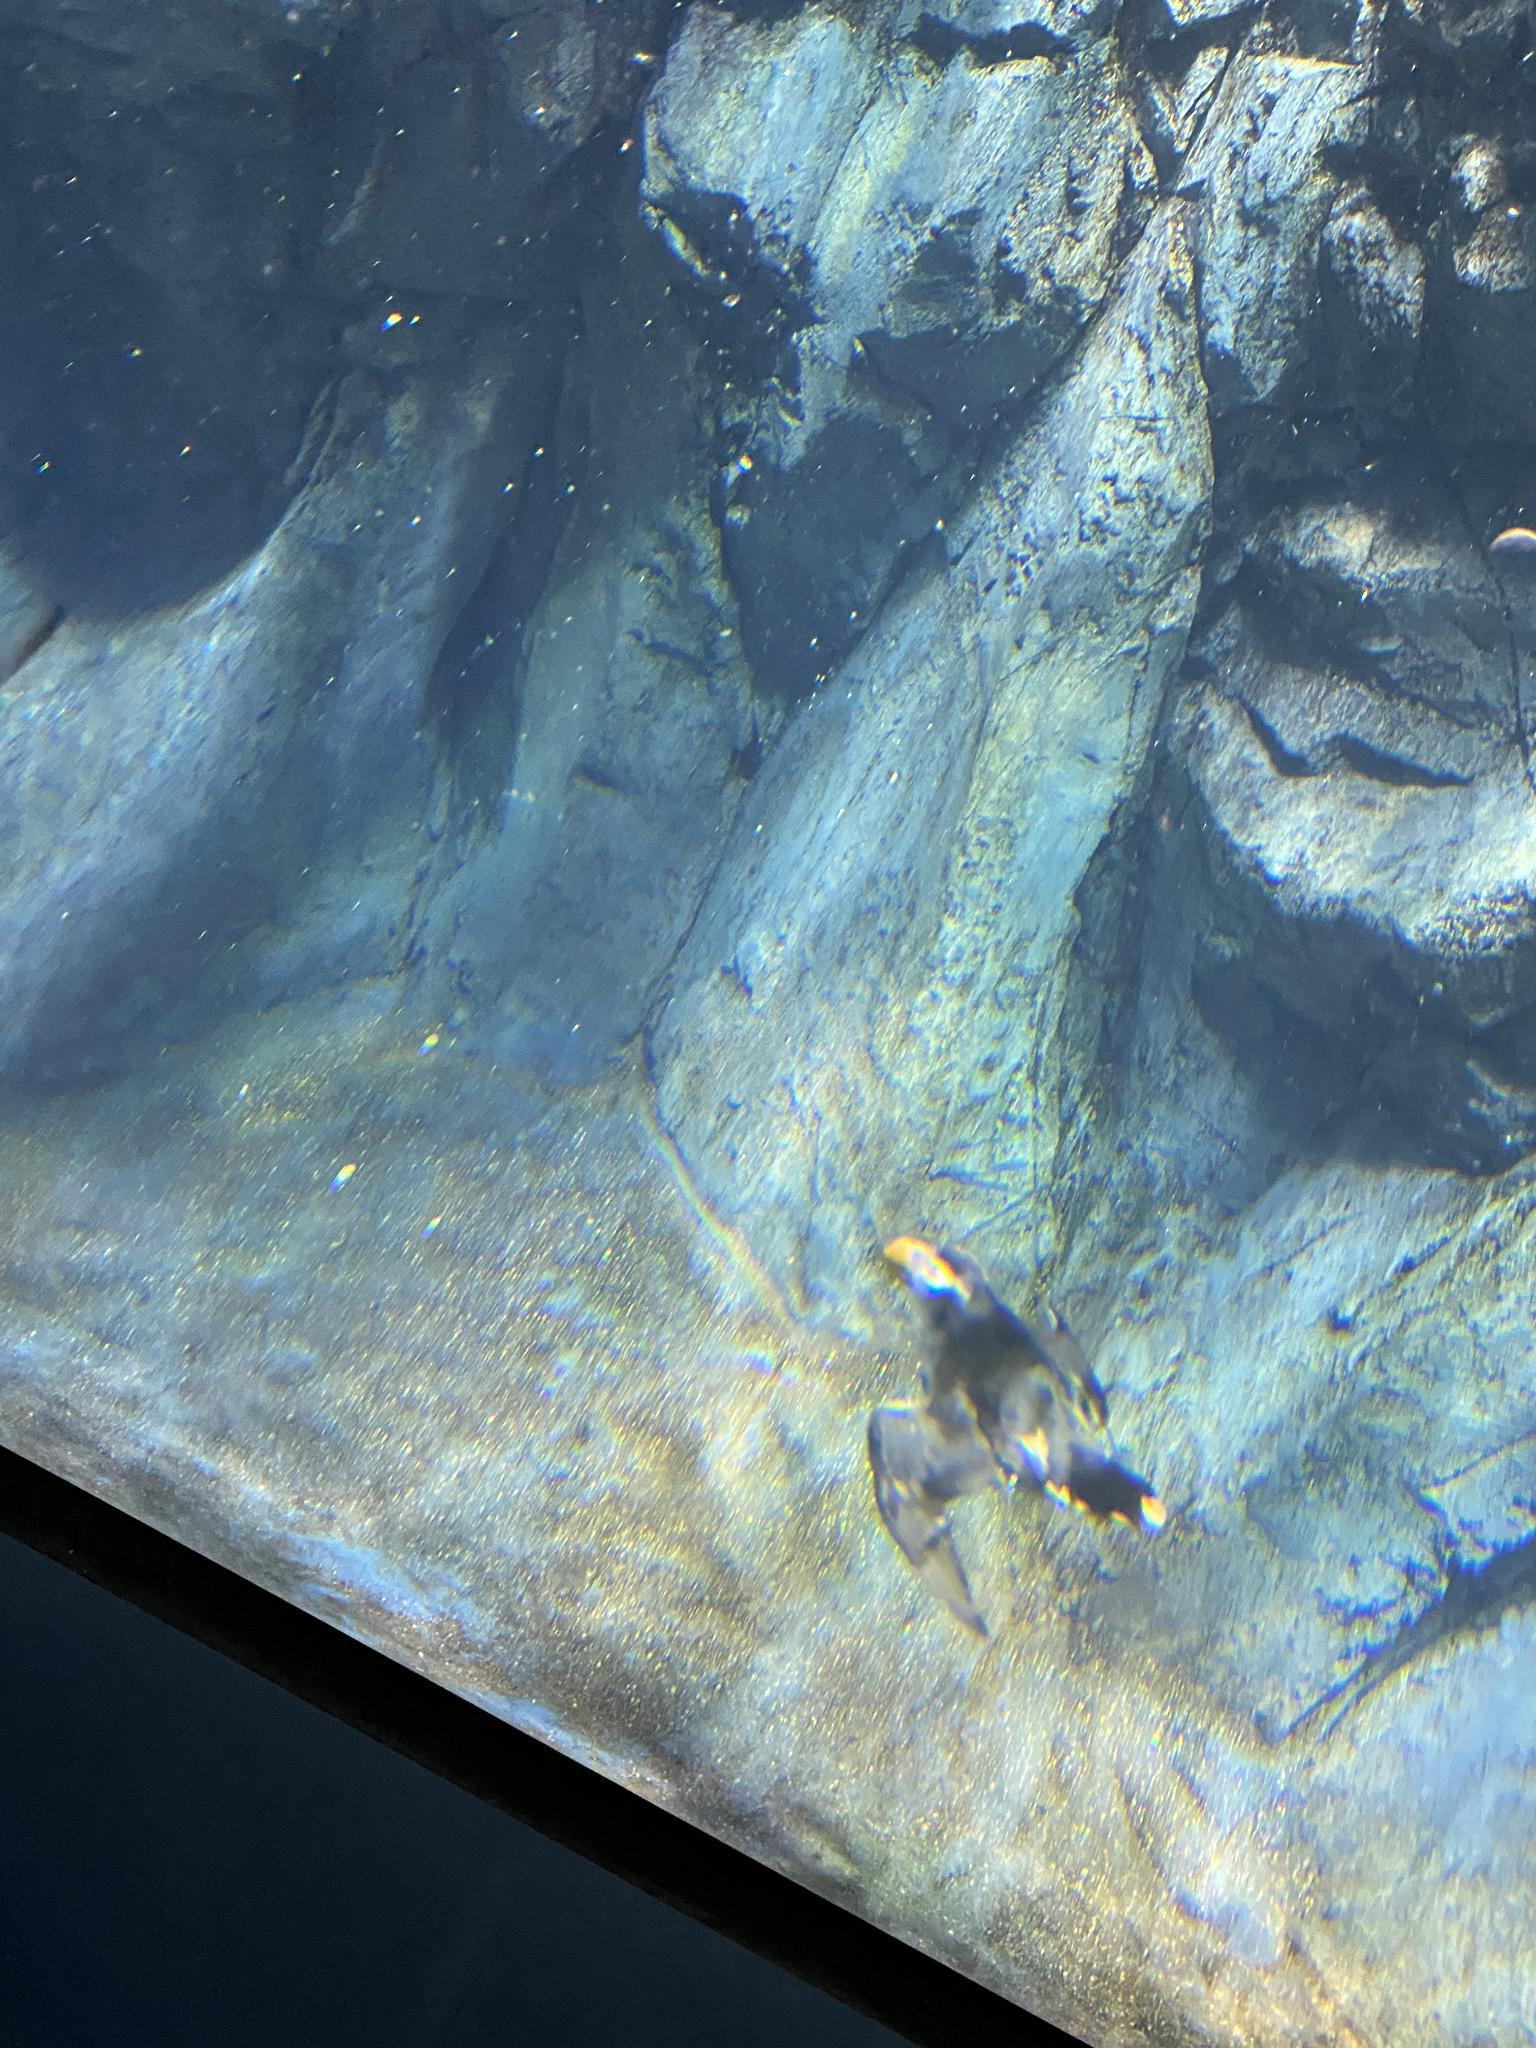puffin: (866, 1234, 1165, 1638)
